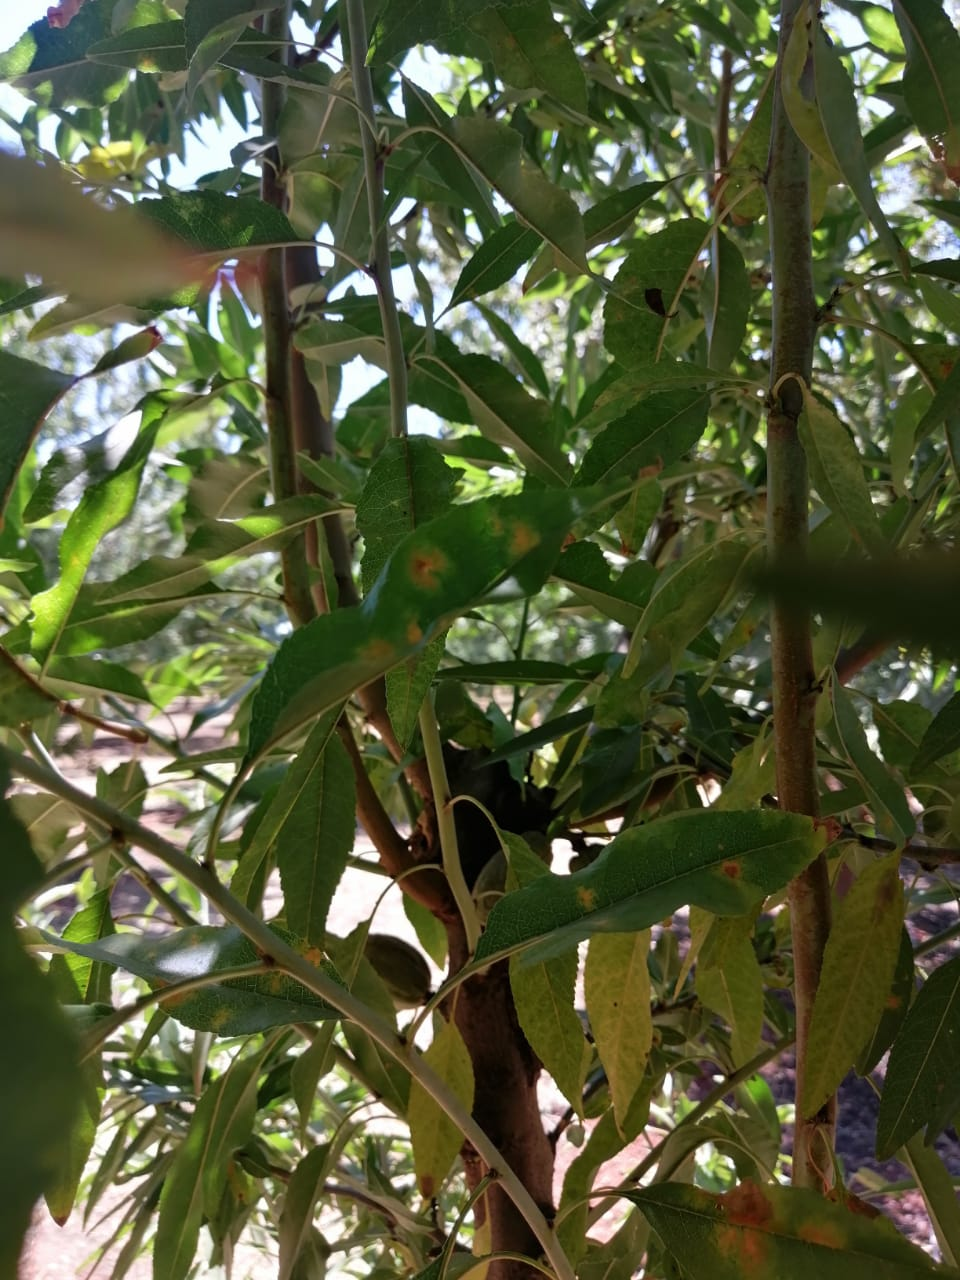polystigma: (240, 484, 638, 769), (440, 804, 841, 995), (788, 846, 913, 1121)
